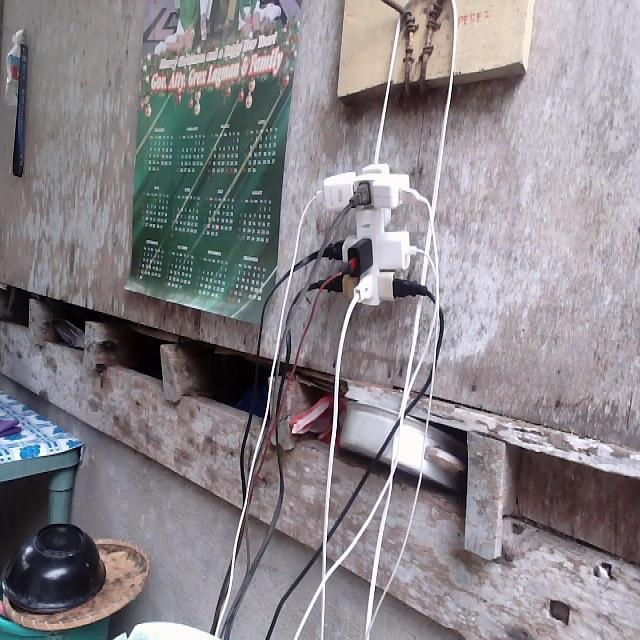-: (301, 163, 436, 304)
